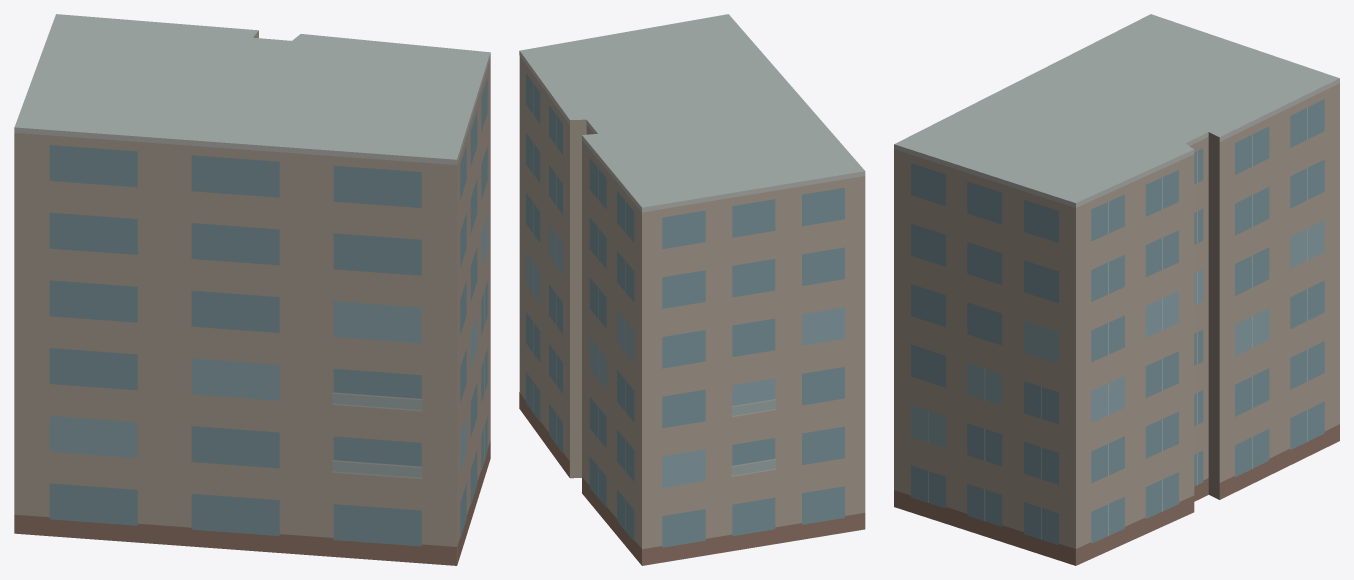
Rendered from survey-upis-32671258.glb.
The picture shows the model from 3 angles, left to right: view 1: azimuth 30°, elevation 25°; view 2: azimuth 150°, elevation 25°; view 3: azimuth 270°, elevation 25°; orthographic projection. The views are drawn at different scales.
Visible parts, largest first — view 1: survey-upis-32671258.tmp; view 2: survey-upis-32671258.tmp; view 3: survey-upis-32671258.tmp.
Boxes of the visible parts, x1,y1,x2,y2 form: survey-upis-32671258.tmp: [14, 14, 490, 565]; survey-upis-32671258.tmp: [519, 14, 865, 565]; survey-upis-32671258.tmp: [894, 14, 1339, 565].
Size of the model in its own units: 20.48 by 18.3 by 20.39.
